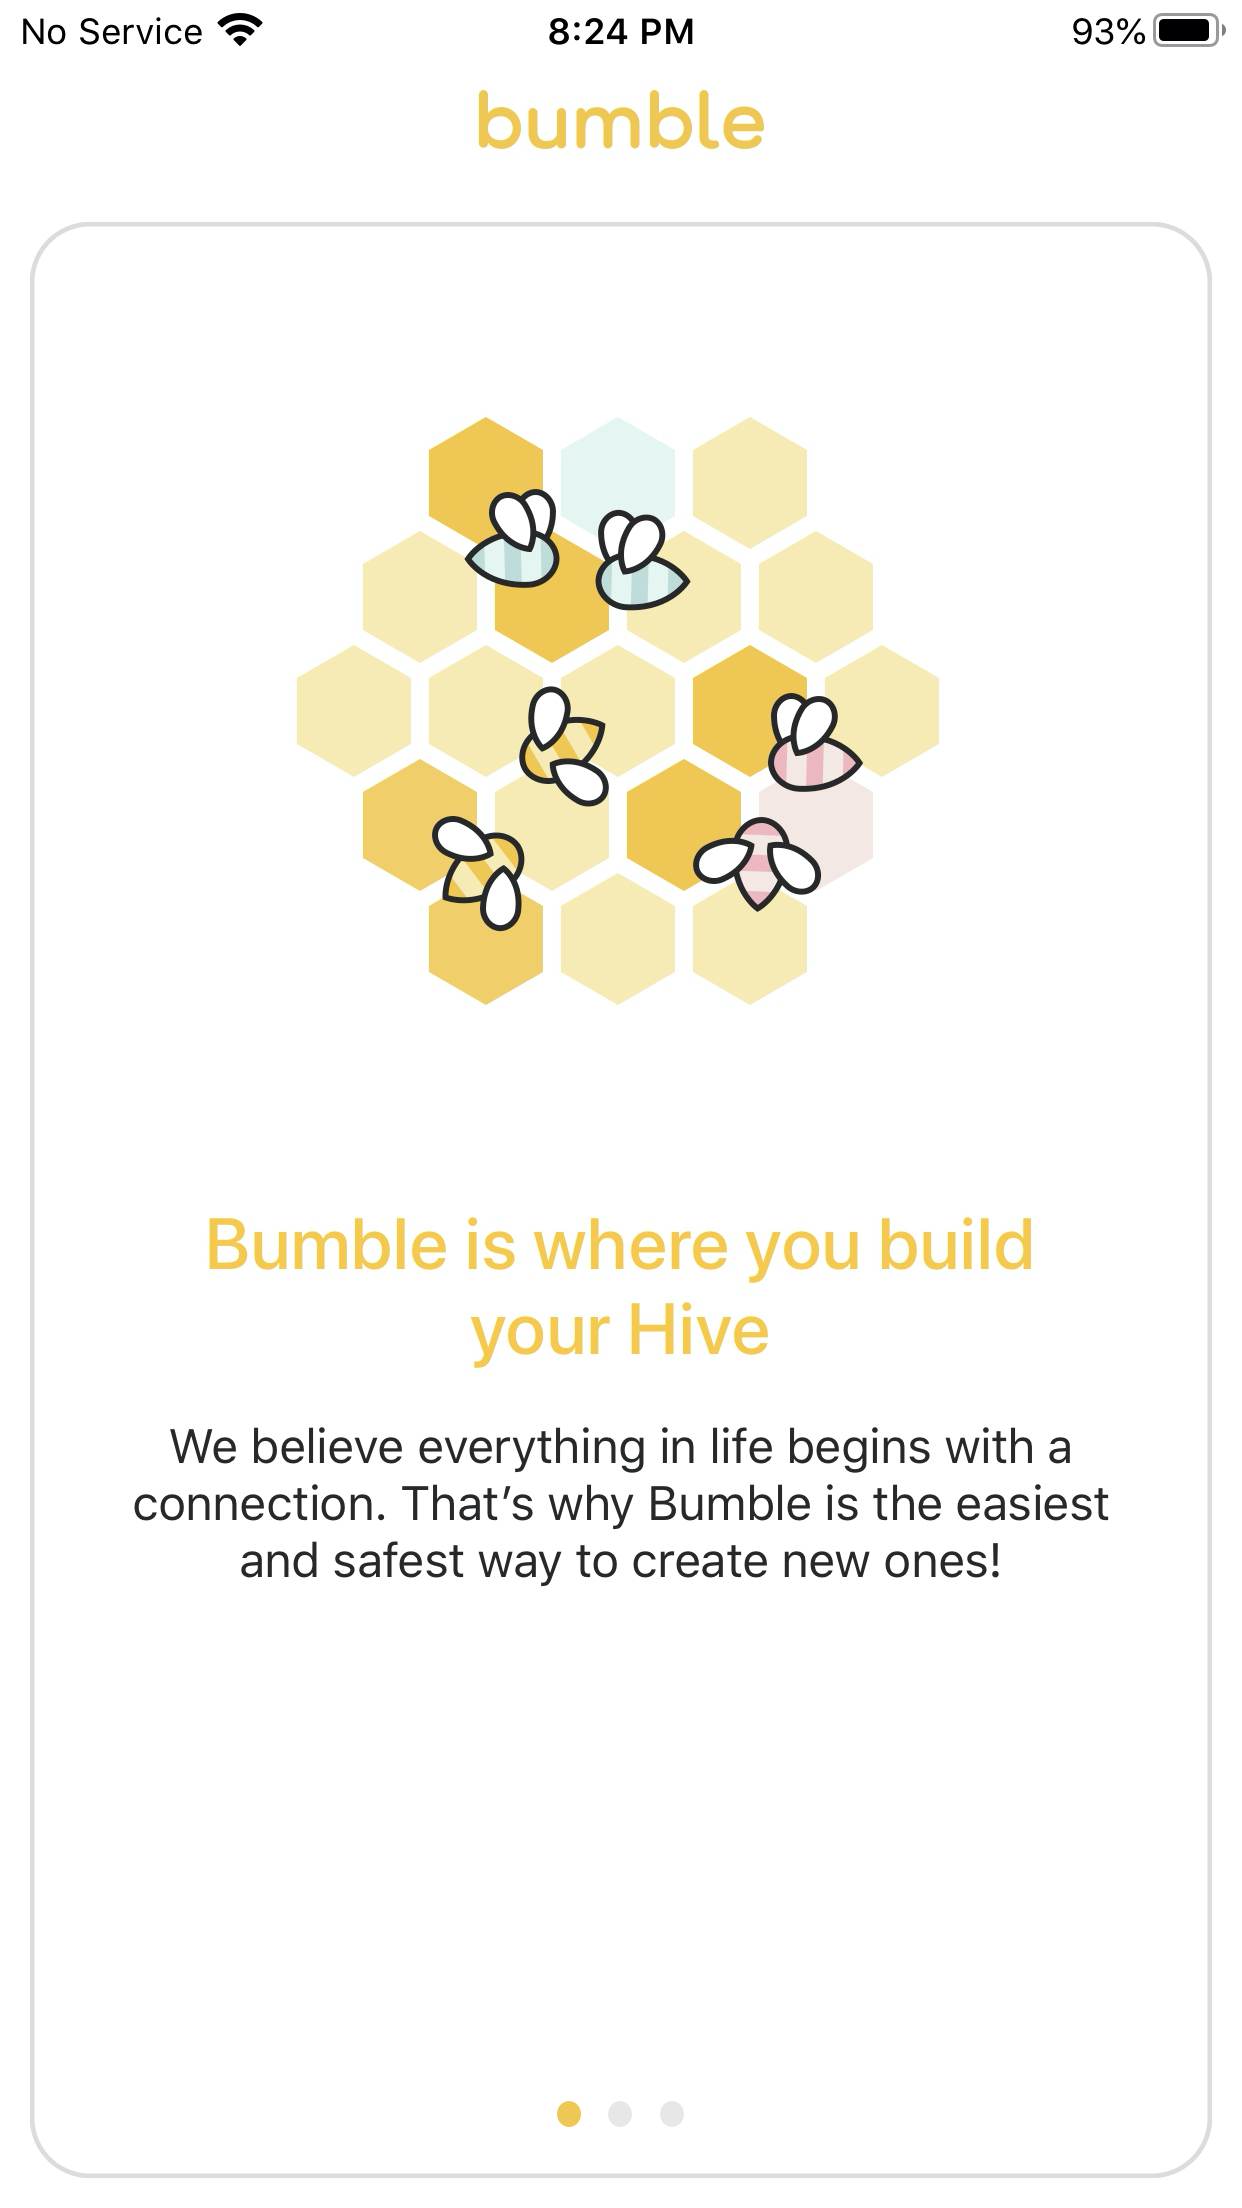Image: (297, 417, 939, 1005)
PageIndicator: (557, 2100, 684, 2128)
Text: (135, 1427, 1109, 1586), (208, 1218, 1031, 1369), (478, 91, 764, 150)
UpperTaskBar: (2, 2, 1242, 49)
